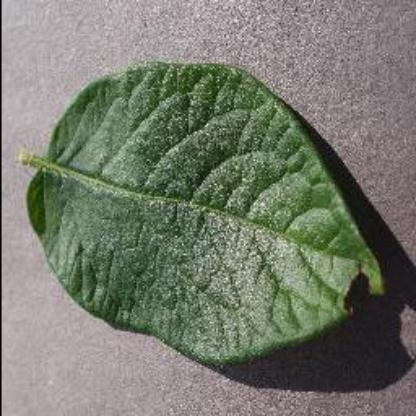Healthy-plant: (11, 35, 383, 413)
